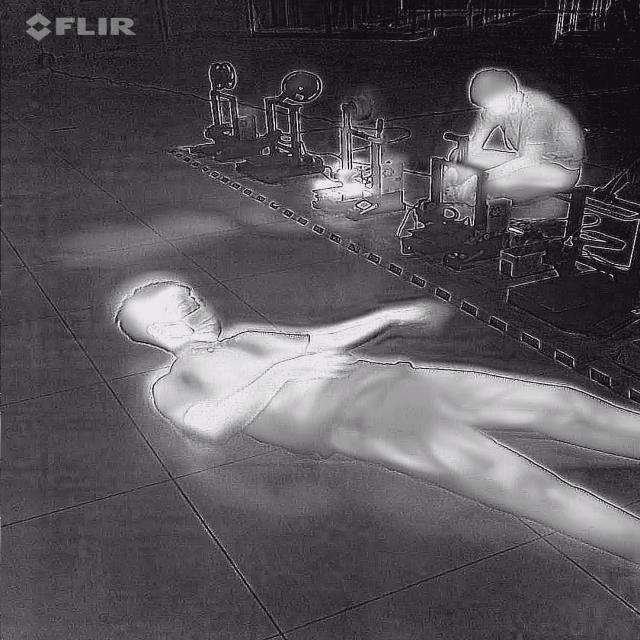Victim: (96, 256, 640, 571), (428, 58, 588, 214)
